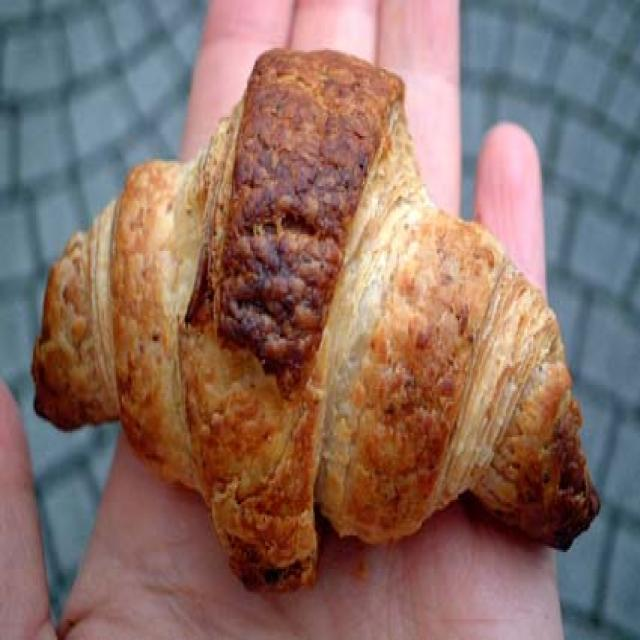Croissant: (24, 39, 610, 583)
